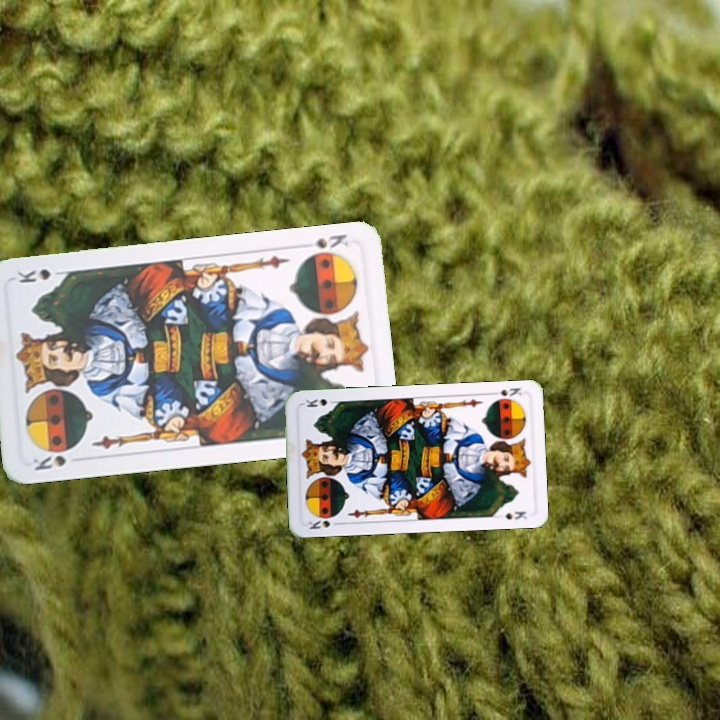SK: (296, 229, 350, 251), (28, 451, 69, 473), (304, 516, 344, 532), (486, 384, 524, 399)
